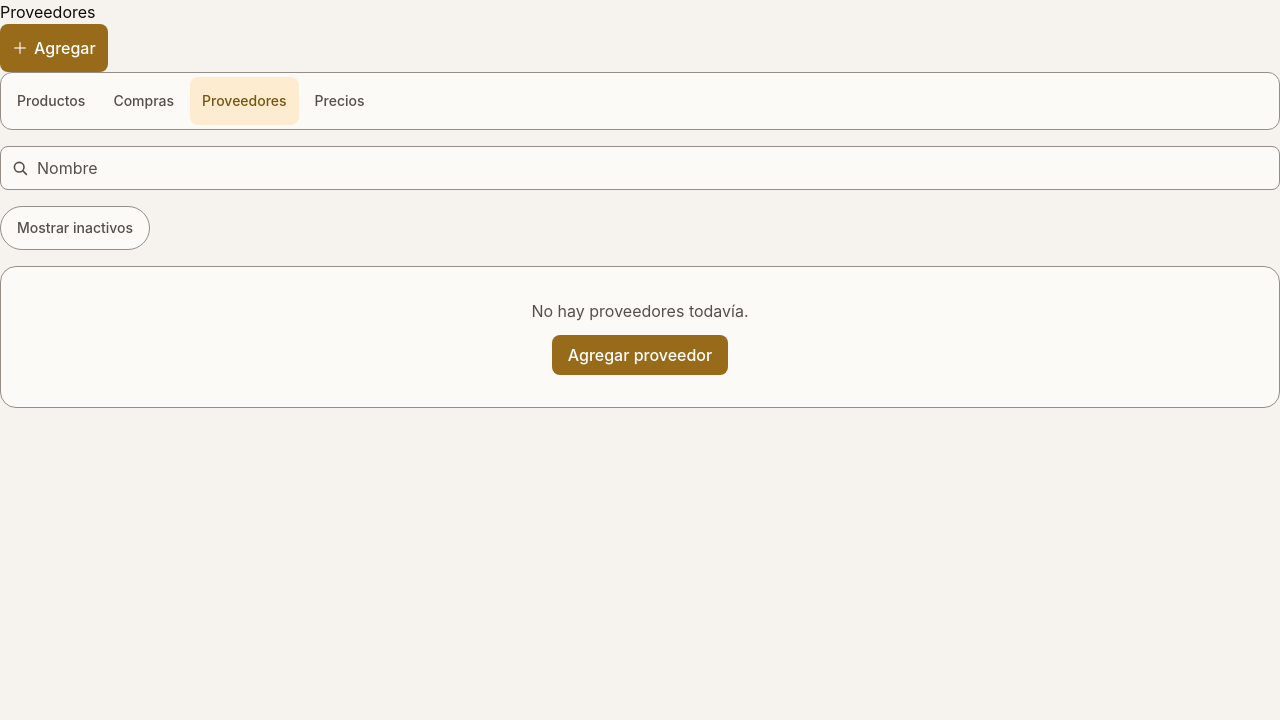
Test case: Proveedores › alta › EN LÍNEA con un ack que nunca resuelve: el modal cierra igual y "Guardando…" se libera
Step 1. Click the button with aria-label "Agregar proveedor" → (54, 48), box [0,24,108,72]
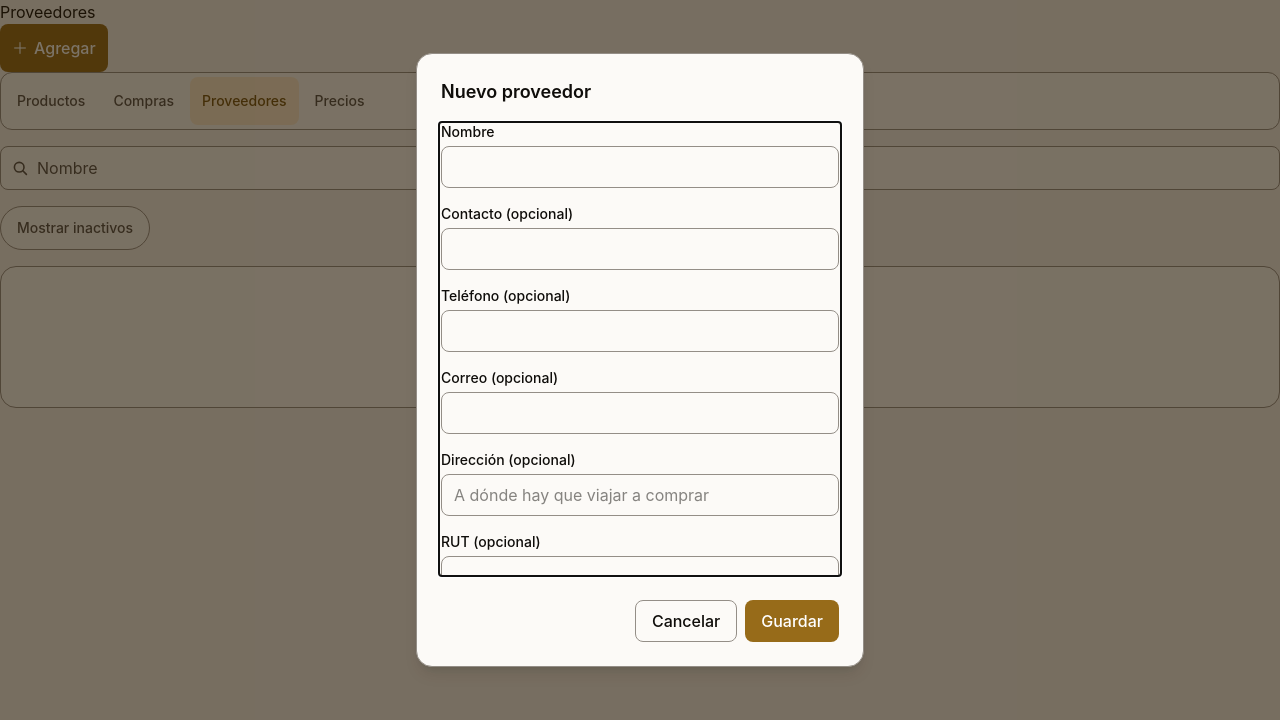
Step 2. Type "Quesos del Norte" into the field labelled "Nombre" → (640, 167), box [441,146,839,188]
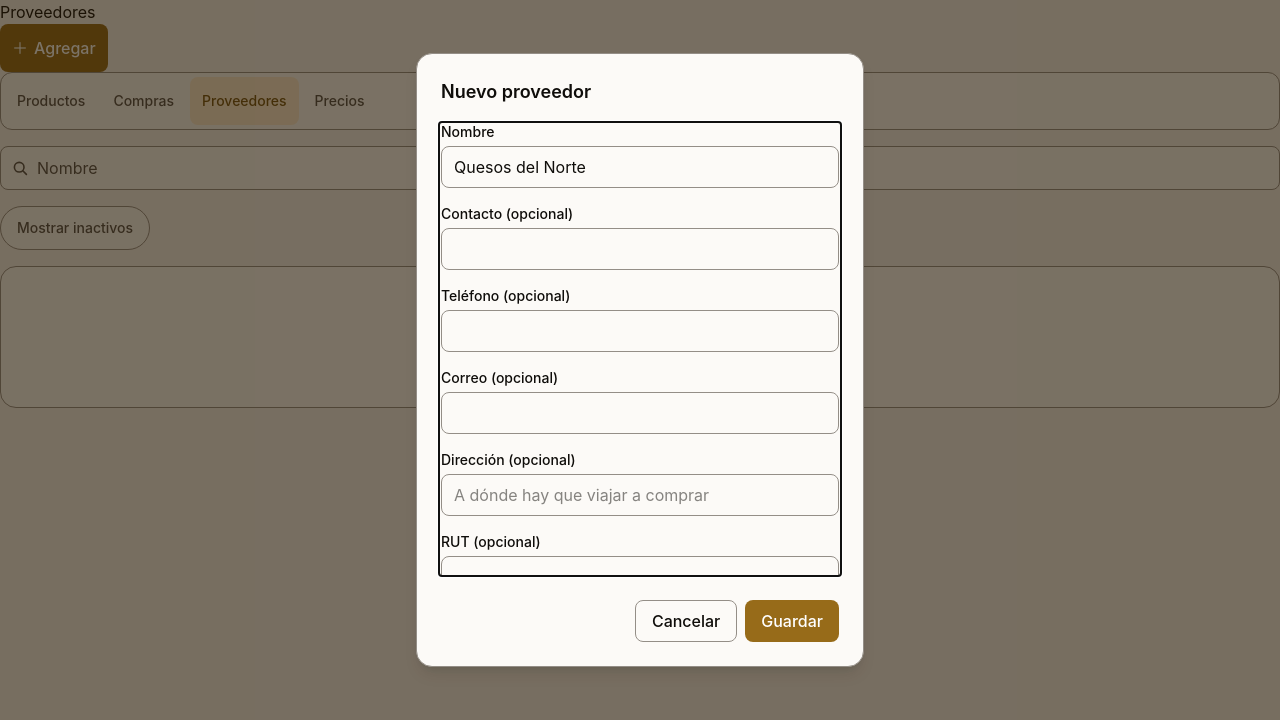
Step 3. Click the button "Guardar" → (792, 621), box [745,600,839,642]
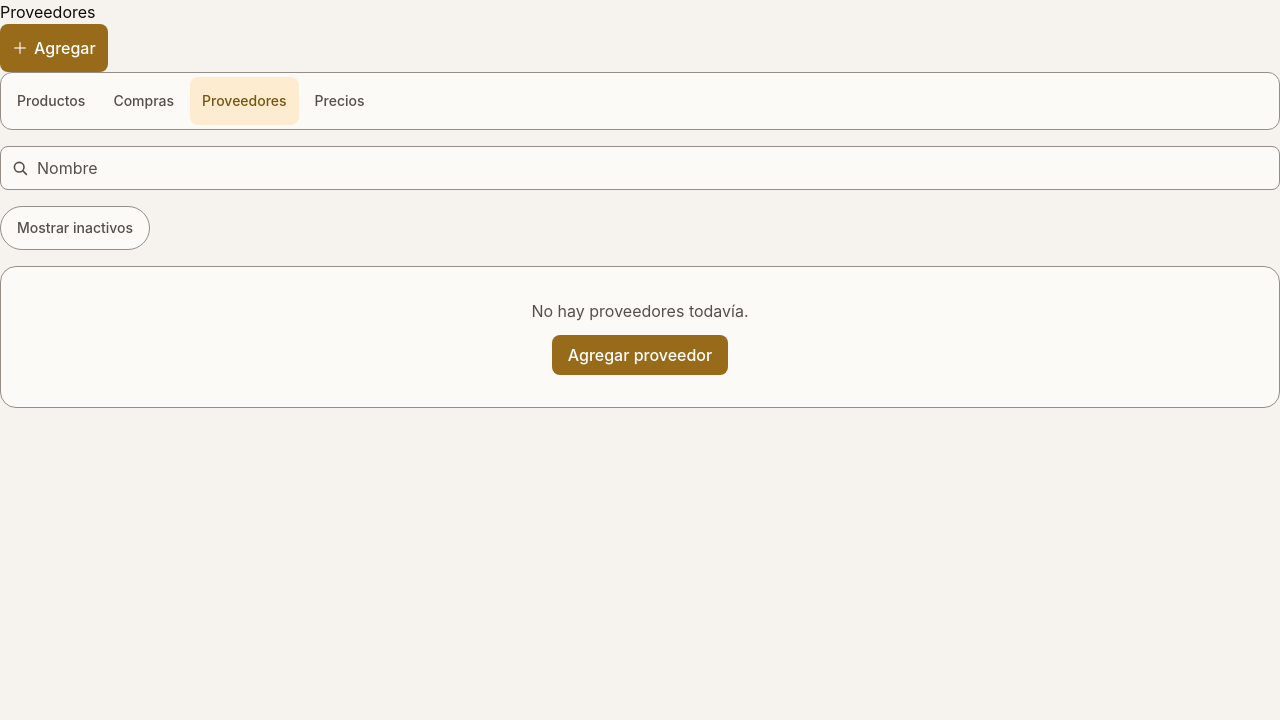
Step 4. Click the button with aria-label "Agregar proveedor" → (54, 48), box [0,24,108,72]
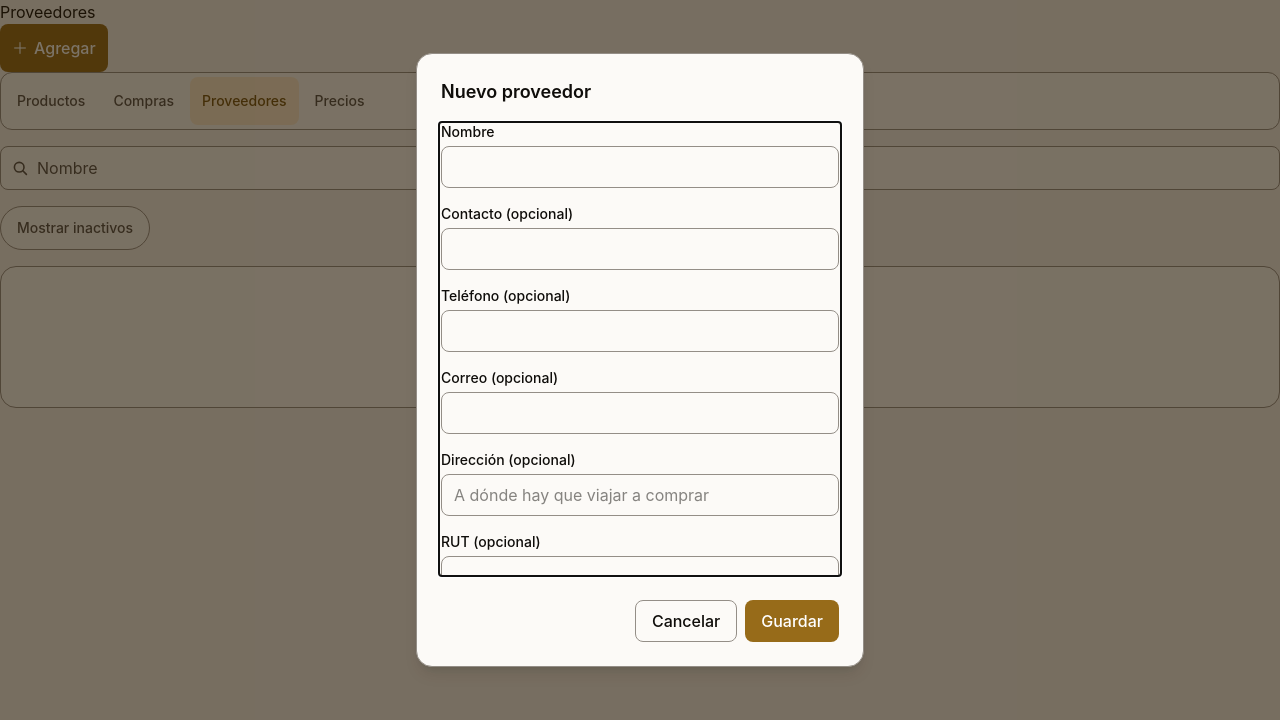
Now the button "Guardar" is enabled, box [745,600,839,642]
